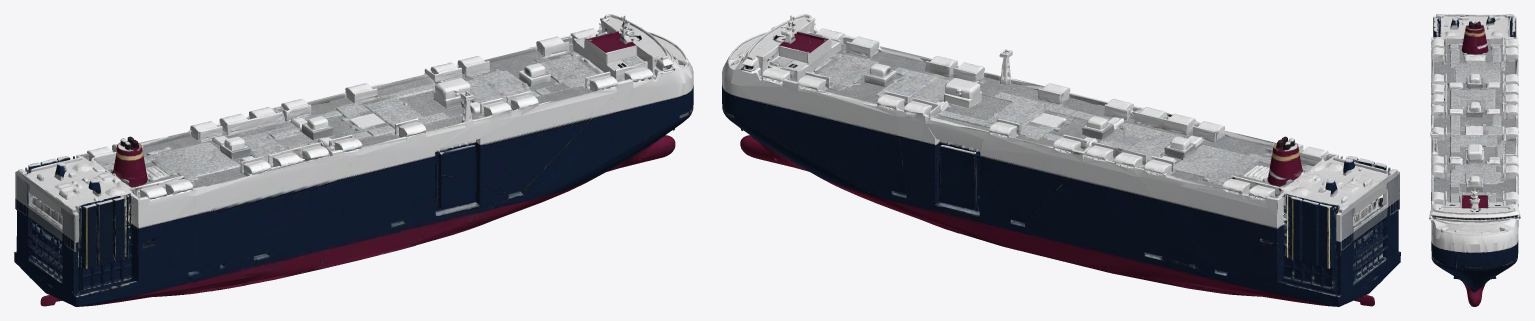
Rendered from 02_roro_freight_ship_180m.glb.
3 views of the same model, side by side, from view 1: azimuth 30°, elevation 25°; view 2: azimuth 150°, elevation 25°; view 3: azimuth 270°, elevation 25° (orthographic). The views are drawn at different scales.
Parts seen in each view (by area): view 1: Mesh_0; view 2: Mesh_0; view 3: Mesh_0.
Part boxes in pixels (x1=…): Mesh_0: x1=14, y1=14, x2=693, y2=306; Mesh_0: x1=722, y1=14, x2=1400, y2=306; Mesh_0: x1=1429, y1=14, x2=1520, y2=306.
Bounding box in the file's own units: 180 × 40.3 × 32.01.
Materials: 1 (1 with a texture image).
